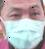with_mask: (2, 2, 45, 49)
